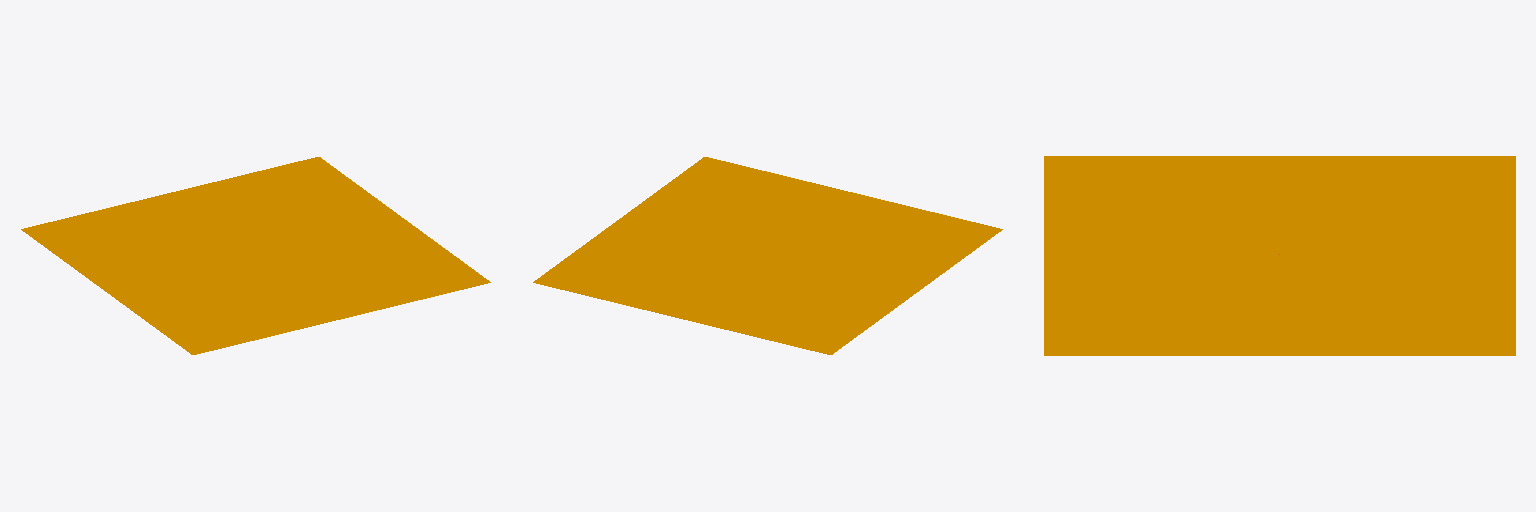
The robot description file, URDF, robot "wheel":
<?xml version="1.0" ?>
<robot name="wheel">

    <material name="industrial-blue">
        <color rgba="0.1137254901 0.3450980392 0.654901960 1" />
    </material>
    
    <material name="arches-blue">
        <color rgba="0.0 0.62352941176 0.831372549 1" />
    </material>
    
    <material name = "heritage-orange">
        <color rgba = "0.96078431 0.50980392 0.11764706 1" />
    </material>

    <material name = "storm-gray">
        <color rgba = "0.78431372 0.7764705 0.780392 1" />
    </material>
      
      
    <link name="ground">
        <visual>
            <origin rpy="0 0 0" xyz="0 0 0"/>
            <geometry>
                <mesh filename="plane_big.obj" scale="1.0 1.0 1.0"/>
            </geometry>
            <material name = "steel"/>
        </visual>
        <inertial>
            <origin rpy="0 0 0" xyz="0 0 0"/>
            <mass value="0"/>
            <inertia ixx="0" ixy="0" ixz="0" iyy="0" iyz="0" izz="0"/>
        </inertial>
    </link>
    
    <link name="axle">
        <visual>
            <origin rpy="0 0 0" xyz="0 0 0"/>
            <geometry>
                <mesh filename="cylinder.stl" scale="0.5 0.5 0.333"/>
            </geometry>
            <material name = "arches-blue"/>
        </visual>
        <inertial>
            <origin rpy="0 0 0" xyz="0 0 0"/>
            <mass value="0"/>
            <inertia ixx="0" ixy="0" ixz="0" iyy="0" iyz="0" izz="0"/>
        </inertial>
    </link>
    
    <link name="wheel">
        <visual>
            <origin rpy="0 0 0" xyz="0 0 0"/>
            <geometry>
                <mesh filename="cylinder.stl" scale="2.0 2.0 0.333"/>
            </geometry>
            <material name = "industrial-blue"/>
        </visual>
        <inertial>
            <origin rpy="0 0 0" xyz="0 0 0"/>
            <mass value="1.0"/>
            <inertia ixx="0.25924" ixy="0" ixz="0" iyy="0.25924" iyz="0" izz="0.5"/>
        </inertial>
    </link>
    
    <link name="arrow">
        <visual>
            <origin rpy="0 0 0" xyz="0 0 0"/>
            <geometry>
                <mesh filename="arrow_lin.stl" scale="1.25 0.1 0.75"/>
            </geometry>
            <material name = "storm-gray"/>
        </visual>
        <inertial>
            <origin rpy="0 0 0" xyz="0 0 0"/>
            <mass value="0"/>
            <inertia ixx="0" ixy="0" ixz="0" iyy="0" iyz="0" izz="0"/>
        </inertial>
    </link>
    
    <link name="target">
        <visual>
            <origin rpy="0 0 0" xyz="0 0 0"/>
            <geometry>
                <mesh filename="arrow_lin.stl" scale="1.25 0.1 0.75"/>
            </geometry>
            <material name = "heritage-orange"/>
        </visual>
        <inertial>
            <origin rpy="0 0 0" xyz="0 0 0"/>
            <mass value="0"/>
            <inertia ixx="0" ixy="0" ixz="0" iyy="0" iyz="0" izz="0"/>
        </inertial>
    </link>

    <link name="target_knob">
        <visual>
            <origin rpy="0 0 0" xyz="0 0 0"/>
            <geometry>
                <mesh filename="cylinder.stl" scale="0.2 0.2 0.02"/>
            </geometry>
            <material name = "heritage-orange"/>
        </visual>
        <inertial>
            <origin rpy="0 0 0" xyz="0 0 0"/>
            <mass value="0"/>
            <inertia ixx="0" ixy="0" ixz="0" iyy="0" iyz="0" izz="0"/>
        </inertial>
    </link>

    <joint name="ground_to_axle" type="continuous">
        <parent link = "ground" />
        <child link = "axle" />
        <origin xyz = "0 0 0.1665" />
        <axis xyz = "0 0 1" />
    </joint>
    
    <joint name="axle_to_wheel" type="fixed">
        <parent link = "axle" />
        <child link = "wheel" />
        <origin xyz = "0 0 0.333" />
    </joint>
    
    <joint name="wheel_to_arrow" type="fixed">
        <parent link = "wheel" />
        <child link = "arrow" />
        <origin xyz="0 0 0.17" rpy="1.5707963267948966 0 0"/>
    </joint>

    <joint name="wheel_to_target_knob" type="fixed">
        <parent link = "wheel" />
        <child link = "target_knob" />
        <origin xyz="0 0 0.175" rpy="0 0 0"/>
    </joint>

    <joint name="wheel_to_target" type="continuous">
        <parent link = "wheel" />
        <child link = "target" />
        <origin xyz="0 0 0.175" rpy="1.5707963267948966 0 0"/>
	<axis xyz = "0 1 0" />
    </joint>

</robot>

--- Render facts (derived) ---
The picture shows the robot from 3 angles, left to right: view 1: azimuth 30°, elevation 25°; view 2: azimuth 150°, elevation 25°; view 3: azimuth 270°, elevation 25°; orthographic projection.
Model wheel with 6 links and 5 joints (2 continuous, 3 fixed), rooted at ground, posed all joints at 0.
Links seen in each view (by area): view 1: ground; view 2: ground; view 3: ground.
Boxes of the visible links, x1=… form: ground: x1=21, y1=157, x2=490, y2=354; ground: x1=533, y1=157, x2=1002, y2=354; ground: x1=1044, y1=156, x2=1515, y2=355.
Size in the robot's own frame: 200 by 200 by 0.6945 metres.
3 mesh visuals loaded from 3 distinct referenced files (1 binary STL, 1 OBJ); not drawn: 3 (reference not matched to a file when rendering).
